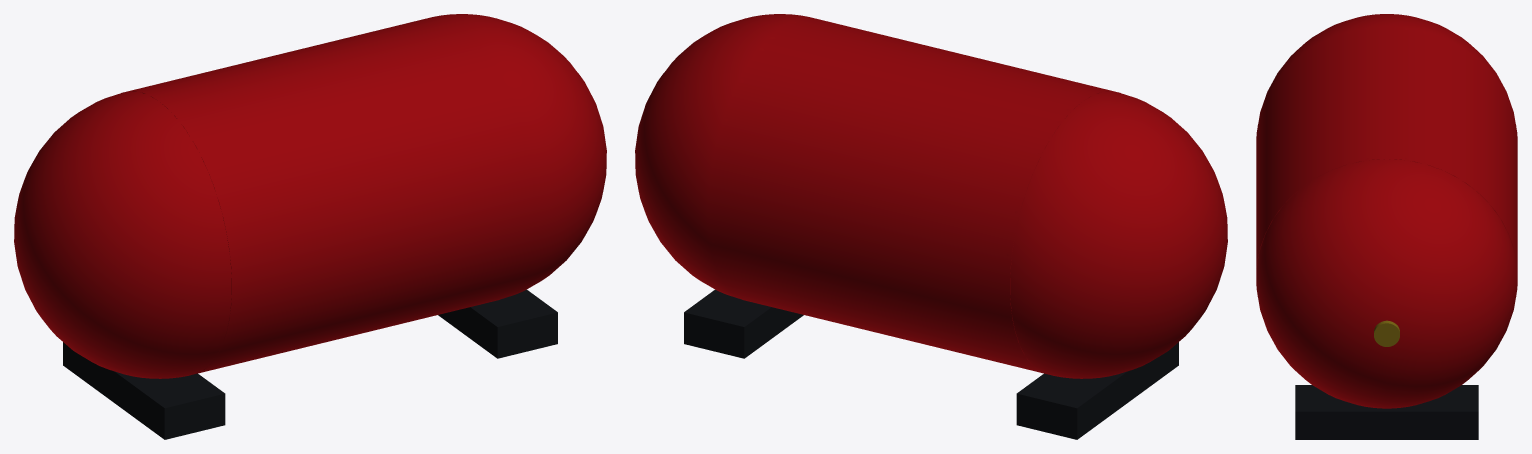
File: hydrogen_tank.glb
3 views of the same model, side by side, from view 1: azimuth 30°, elevation 25°; view 2: azimuth 150°, elevation 25°; view 3: azimuth 270°, elevation 25° (orthographic). The views are drawn at different scales.
Parts seen in each view (by area): view 1: tank; view 2: tank; view 3: tank.
Boxes of the visible parts, x1,y1,x2,y2 form: tank: [14, 14, 606, 439]; tank: [635, 14, 1227, 439]; tank: [1256, 14, 1517, 439].
Bounding box in the file's own units: 1.11 × 0.55 × 0.4993.
